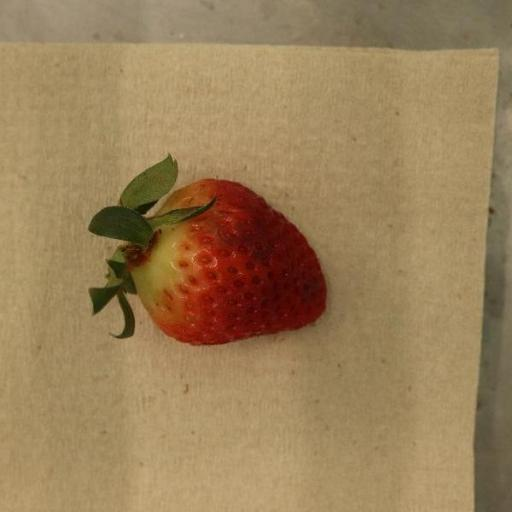Strawberry: (87, 156, 327, 347)
